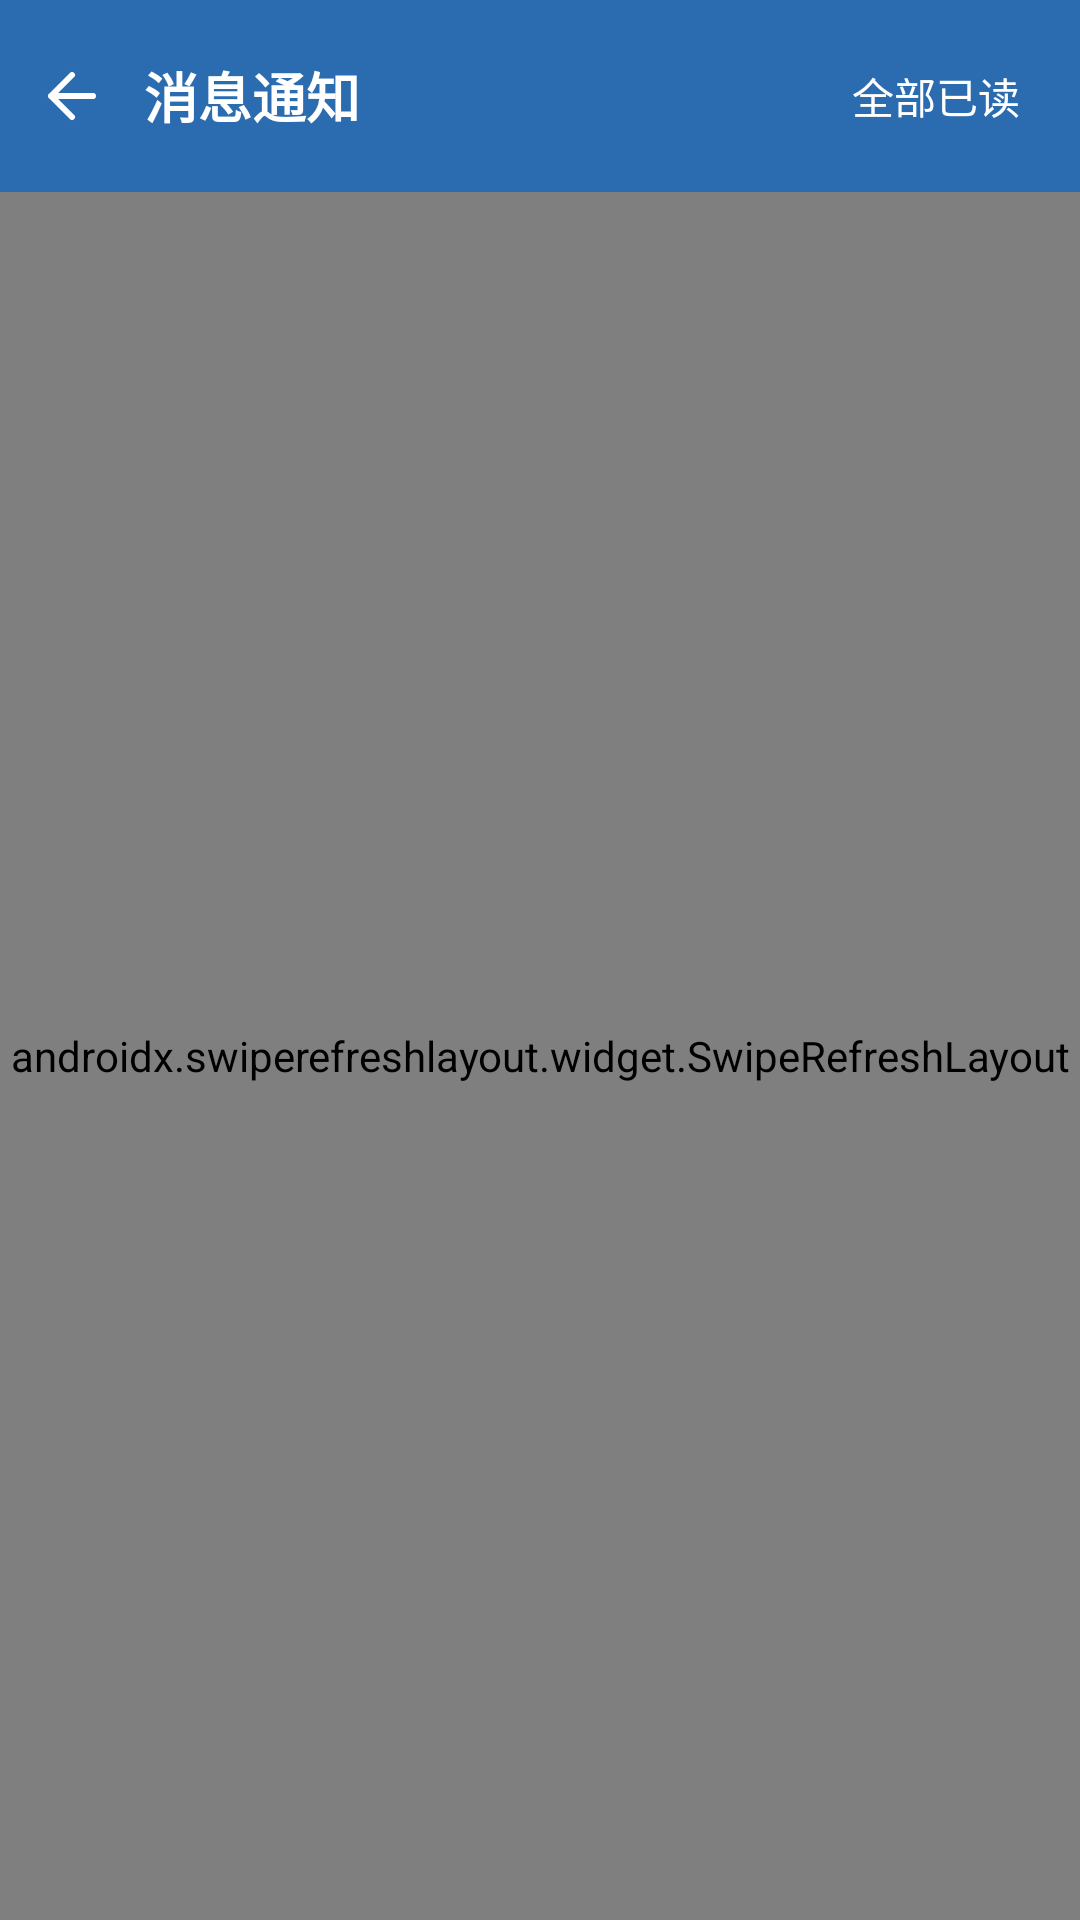

Icons on this 1080 × 1920 Android screen, each with the point to tap as (x,y):
返回: (72,96)
